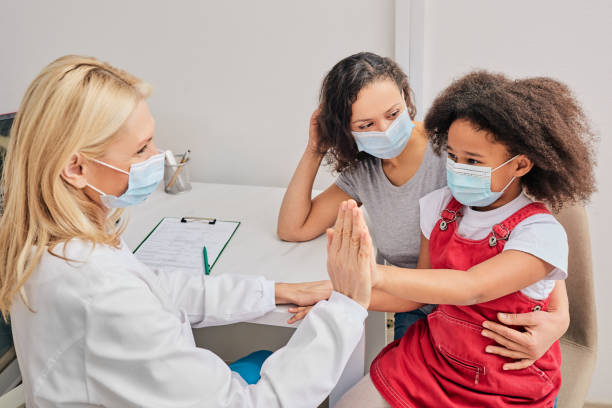with mask: (73, 91, 173, 218), (345, 67, 414, 160), (444, 114, 513, 207)
